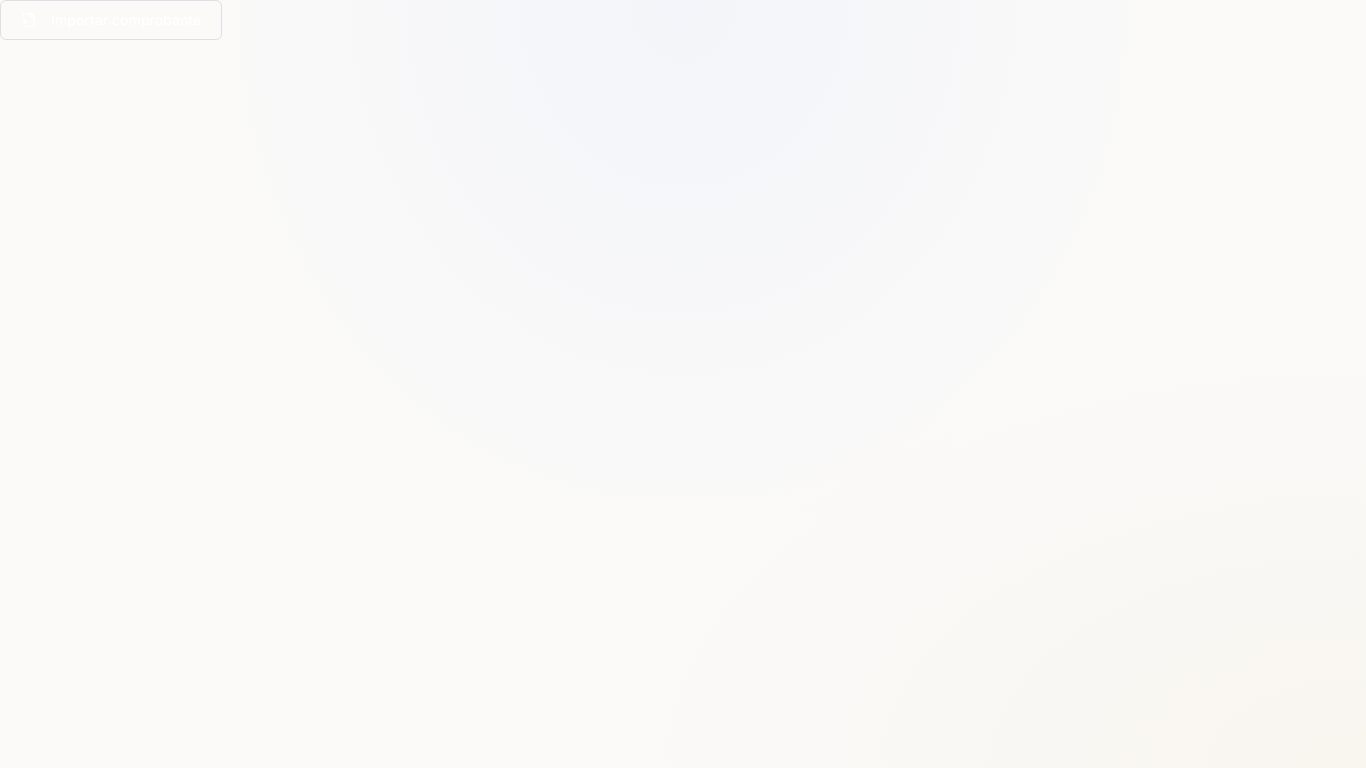
Test: judicial reparto import from its normal button › reads only the chosen Outlook attachment from a detected process
Click the button "Importar comprobante": (111, 20) [0,0,222,40]
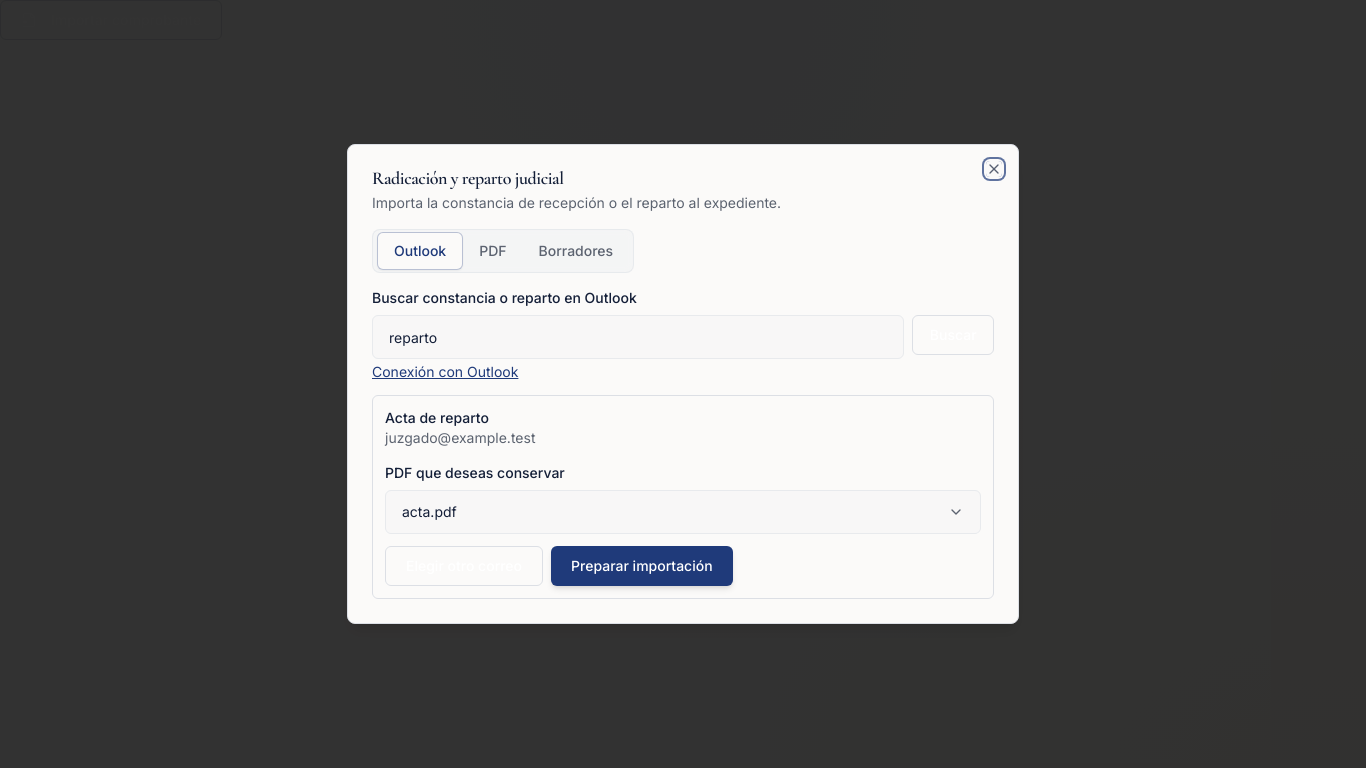
Click the button "Preparar importación": (642, 566) [551,546,733,586]
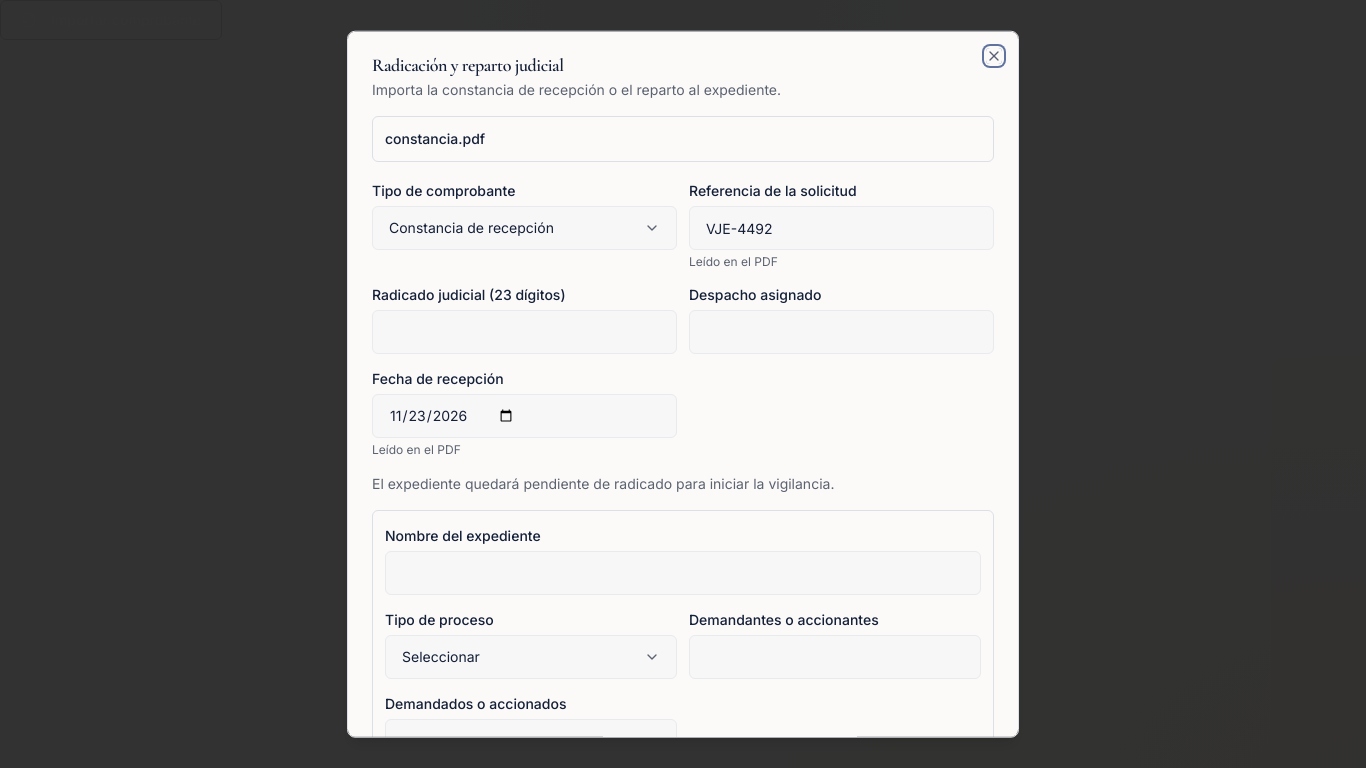
Expected: the field labelled "Referencia de la solicitud" is shown, [689,206,994,250]
